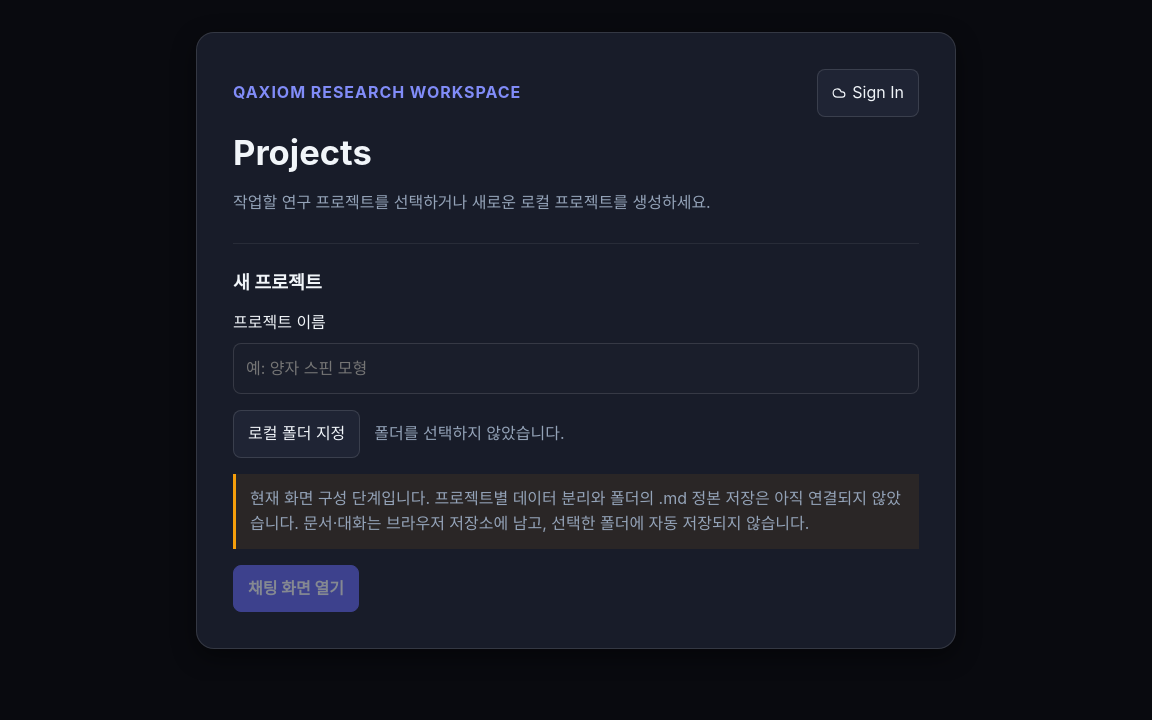
Test: onboarding flow › shows an IndexedDB initialization warning without blocking the app
In the field labelled "프로젝트 이름": point(576, 368) [233, 342, 919, 394], type "테스트 프로젝트"
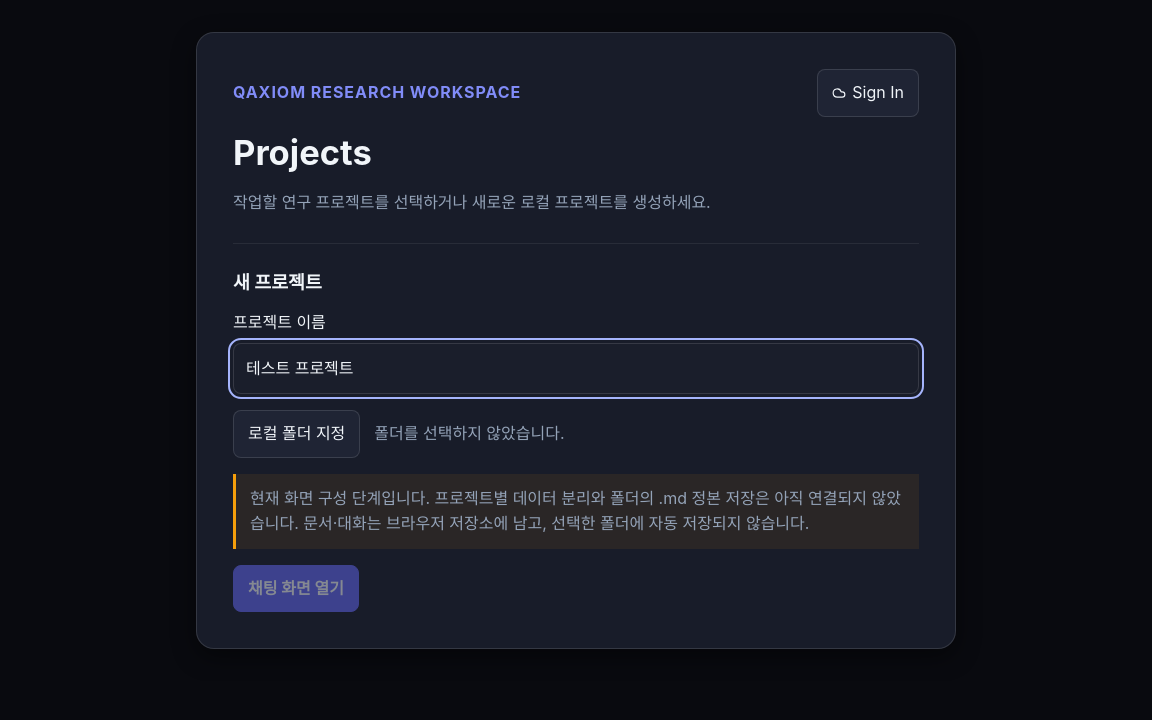
Click the button "로컬 폴더 지정": point(297, 434) [233, 410, 360, 458]
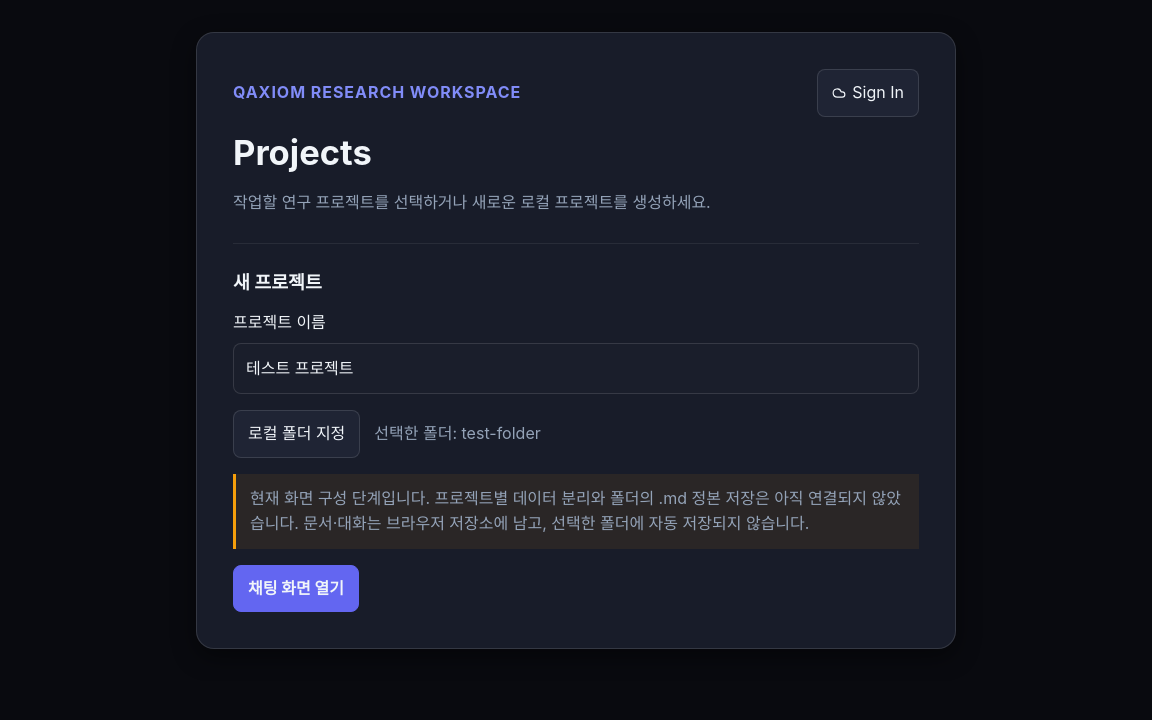
Result: the text "선택한 폴더: test-folder" is shown at [374, 421, 541, 447]
Result: the button "채팅 화면 열기" is enabled
Click the button "채팅 화면 열기": point(296, 589) [233, 565, 359, 612]
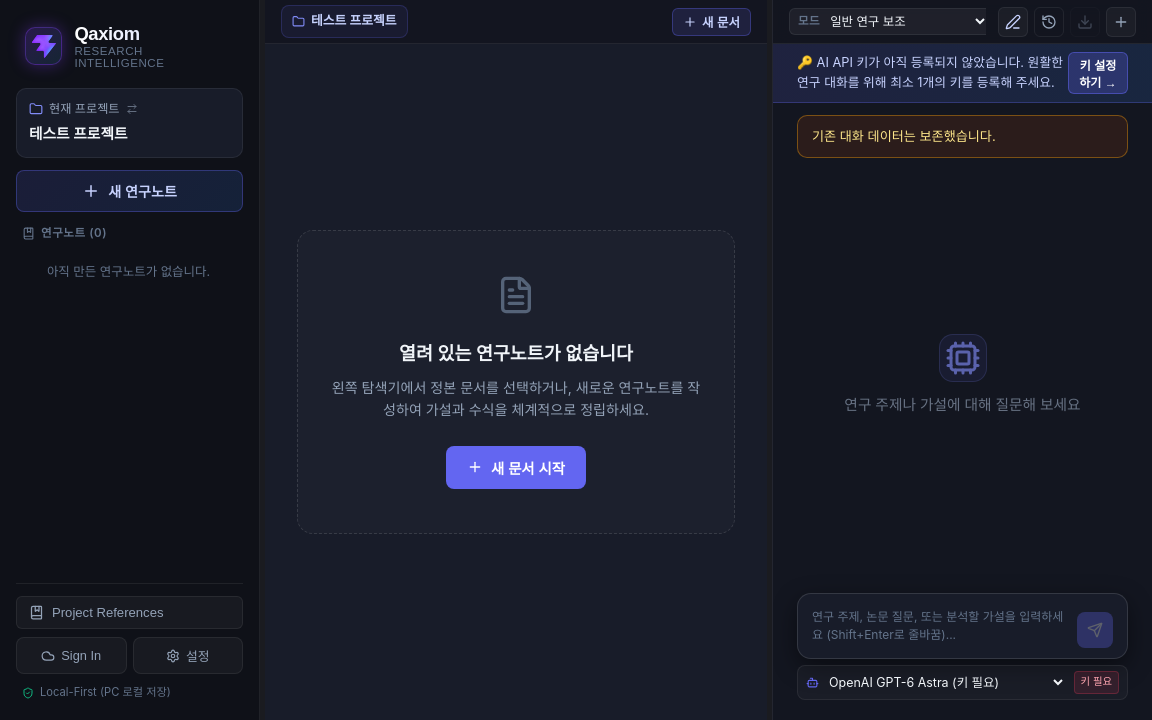
Result: the message reads "기존 대화 데이터는 보존했습니다." at [812, 128, 996, 144]
